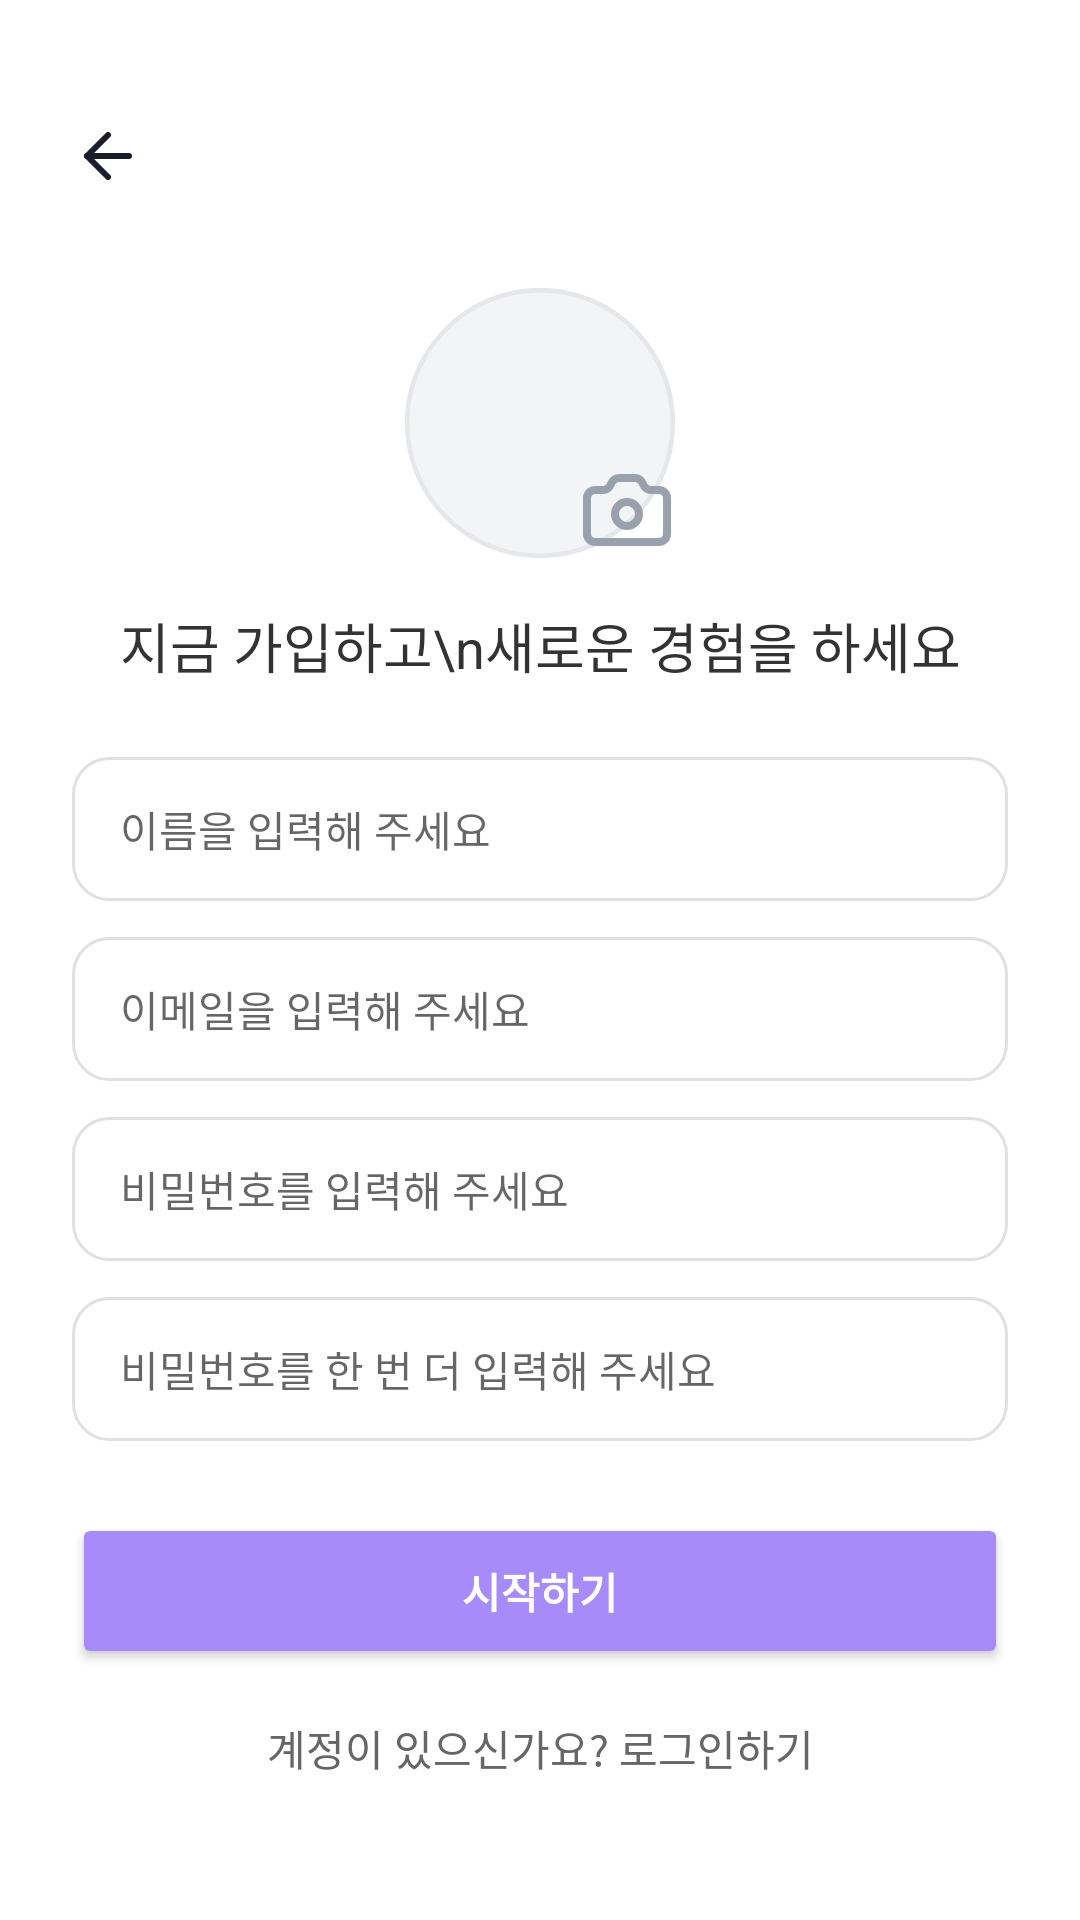

Screen size 1080px x 1920px. Icon name, then its box in pixels as (x1, y1, x2, y2):
back: (84, 132, 132, 180)
camera: (579, 462, 671, 552)
